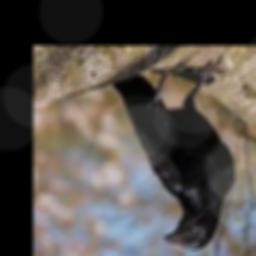Crow: (112, 59, 235, 250)
